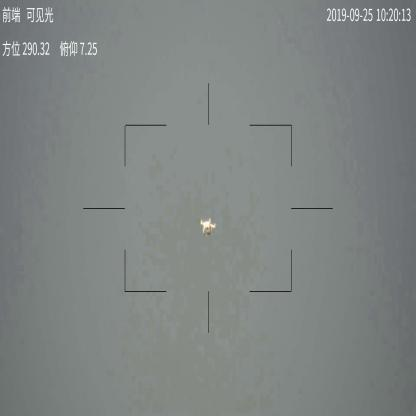uav: (200, 212, 217, 238)
